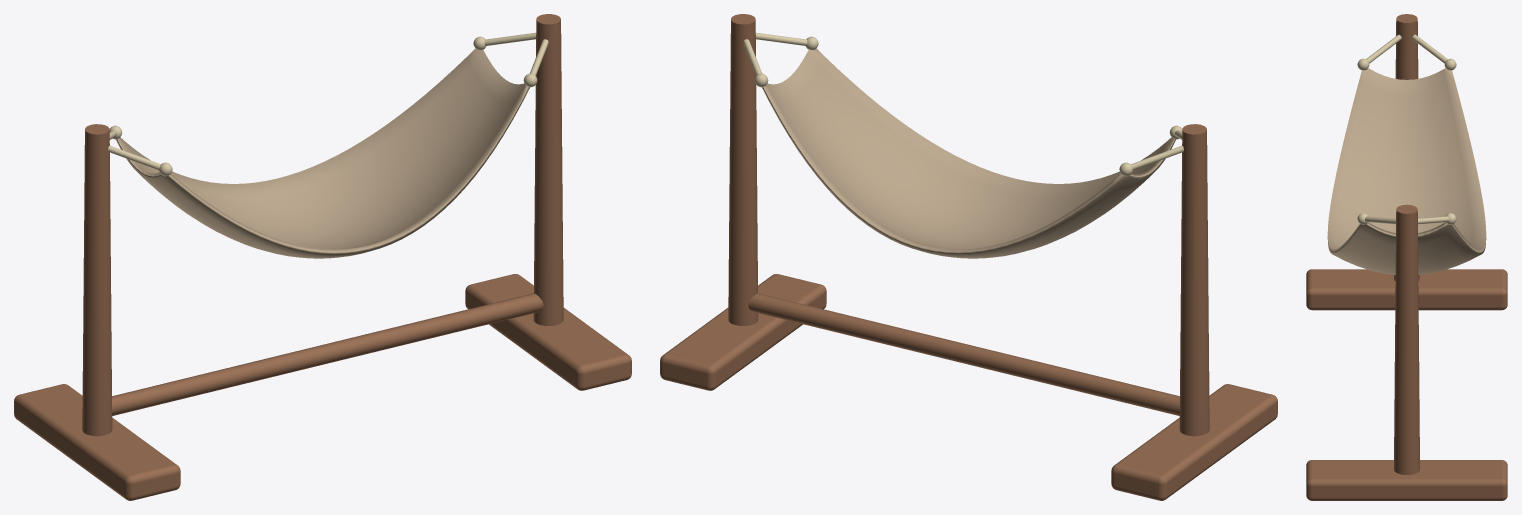
Rendered from hammock.glb.
3 renders of one model, left to right at view 1: azimuth 30°, elevation 25°; view 2: azimuth 150°, elevation 25°; view 3: azimuth 270°, elevation 25°, orthographic. The views are drawn at different scales.
Visible parts, largest first — view 1: single-sagging-cloth-sling, joined-base-stretcher, support-post--1, grounded-foot--1, support-post-1, grounded-foot-1; view 2: single-sagging-cloth-sling, joined-base-stretcher, support-post--1, grounded-foot--1, support-post-1, grounded-foot-1; view 3: single-sagging-cloth-sling, grounded-foot-1, grounded-foot--1, support-post-1, support-post--1, tension-rope--1--1, tension-rope--1-1.
Boxes of the visible parts, x1,y1,x2,y2 form: single-sagging-cloth-sling: (116,48,529,258); joined-base-stretcher: (112,293,543,415); support-post--1: (82,124,112,436); grounded-foot--1: (14,384,180,500); support-post-1: (533,14,563,325); grounded-foot-1: (465,274,631,390); single-sagging-cloth-sling: (762,48,1175,258); joined-base-stretcher: (748,293,1179,415); support-post--1: (1179,124,1209,436); grounded-foot--1: (1111,384,1277,500); support-post-1: (728,14,758,325); grounded-foot-1: (660,274,826,390); single-sagging-cloth-sling: (1327,68,1486,274); grounded-foot-1: (1306,460,1507,500); grounded-foot--1: (1306,269,1507,310); support-post-1: (1394,204,1419,474); support-post--1: (1394,14,1419,280); tension-rope--1--1: (1412,34,1447,63); tension-rope--1-1: (1366,34,1401,63).
Size of the model in its own units: 2.11 by 1.3 by 0.84.
